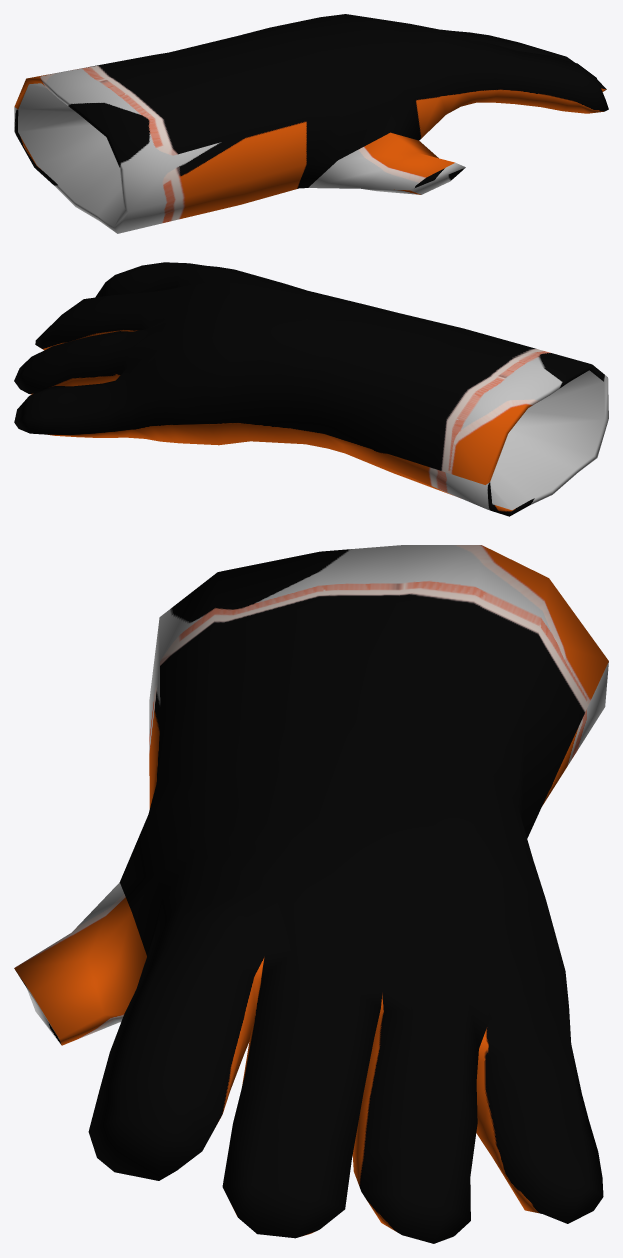
File: Gloves_Metal_Destroy.fbx
3 views of the same model, one above another, from view 1: azimuth 30°, elevation 25°; view 2: azimuth 150°, elevation 25°; view 3: azimuth 270°, elevation 25° (orthographic). The views are drawn at different scales.
Parts seen in each view (by area): view 1: GloveMetLeft_DestrSUB; view 2: GloveMetLeft_DestrSUB; view 3: GloveMetLeft_DestrSUB.
Boxes of the visible parts, <box> form: GloveMetLeft_DestrSUB: <box>14,14,608,233</box>; GloveMetLeft_DestrSUB: <box>14,262,608,516</box>; GloveMetLeft_DestrSUB: <box>14,545,608,1243</box>.
Size of the model in its own units: 0.3317 by 0.078 by 0.167.
